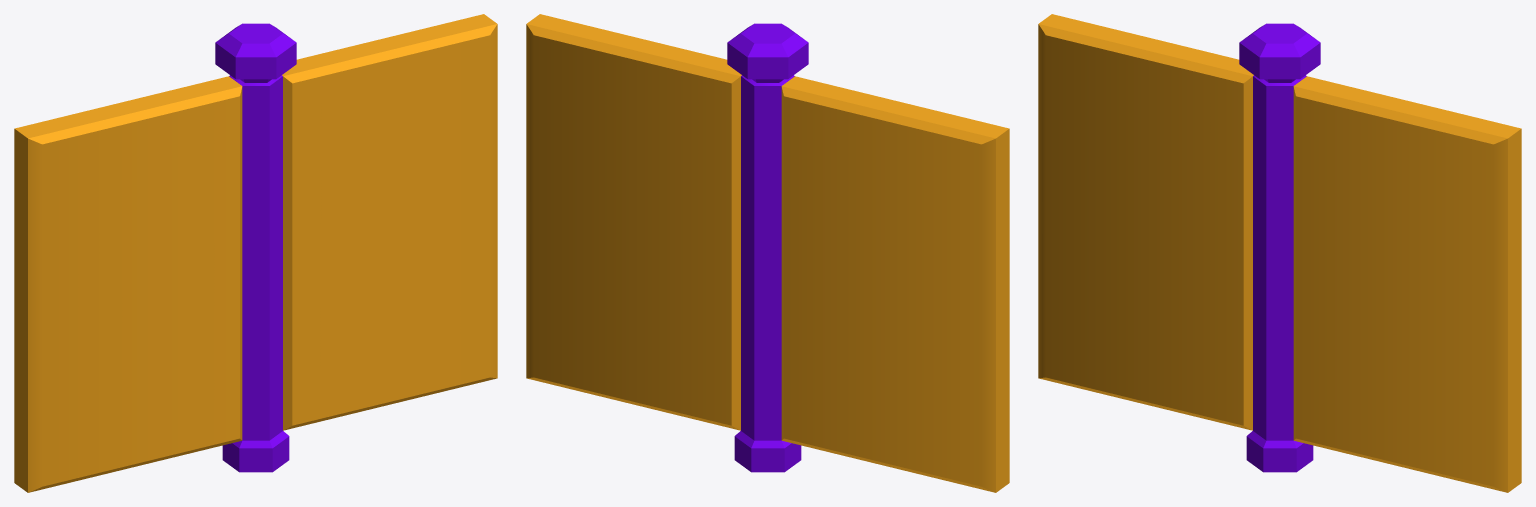
File: Revolving_Gate_02.fbx
3 renders of one model, left to right at view 1: azimuth 30°, elevation 25°; view 2: azimuth 150°, elevation 25°; view 3: azimuth 330°, elevation 25°, orthographic.
Parts seen in each view (by area): view 1: Obstacle_Revolving_Gate_02; view 2: Obstacle_Revolving_Gate_02; view 3: Obstacle_Revolving_Gate_02.
Boxes of the visible parts, box(x1,y1,x2,y2) form: Obstacle_Revolving_Gate_02: box(14, 14, 497, 492); Obstacle_Revolving_Gate_02: box(526, 14, 1009, 492); Obstacle_Revolving_Gate_02: box(1038, 14, 1521, 492).
Size of the model in its own units: 231 by 200 by 34.6.
1 material, 1 textured.
